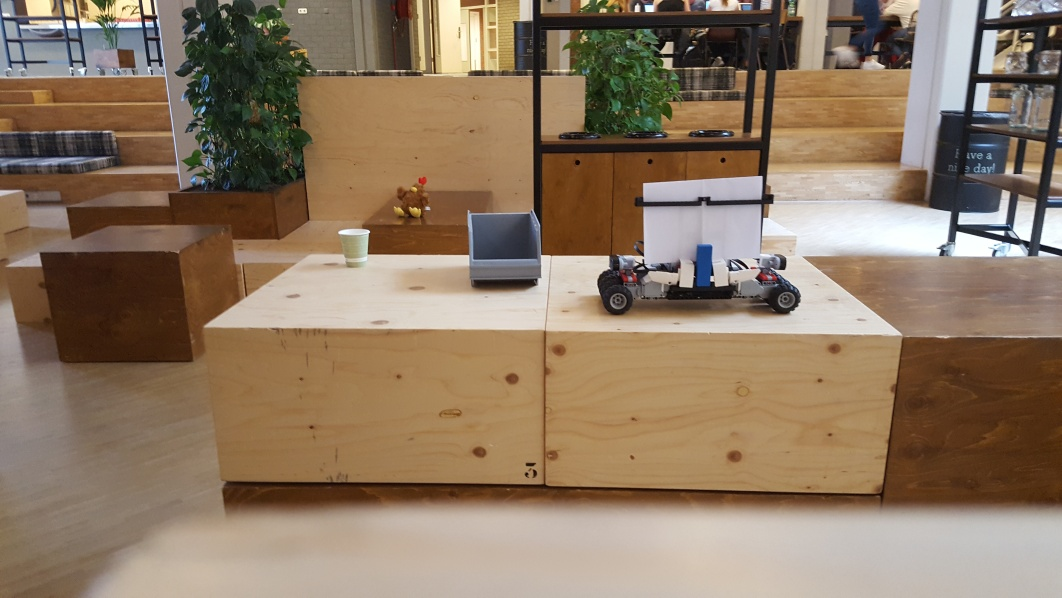car: (598, 174, 798, 318)
chicken: (394, 178, 432, 218)
cup: (337, 227, 372, 267)
tray: (465, 210, 546, 287)
